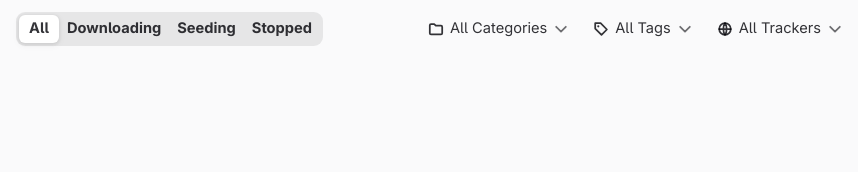
Scenario: FilterBar › opens a category dropdown with counts and filters by the choice
Click the button "All Categories".
click(499, 29)  # box [419, 12, 578, 46]
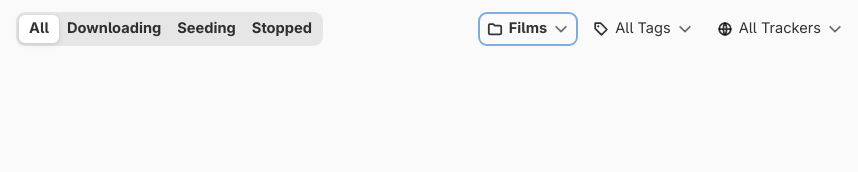
expect the text "Films" is shown: met, box [509, 20, 547, 39]
